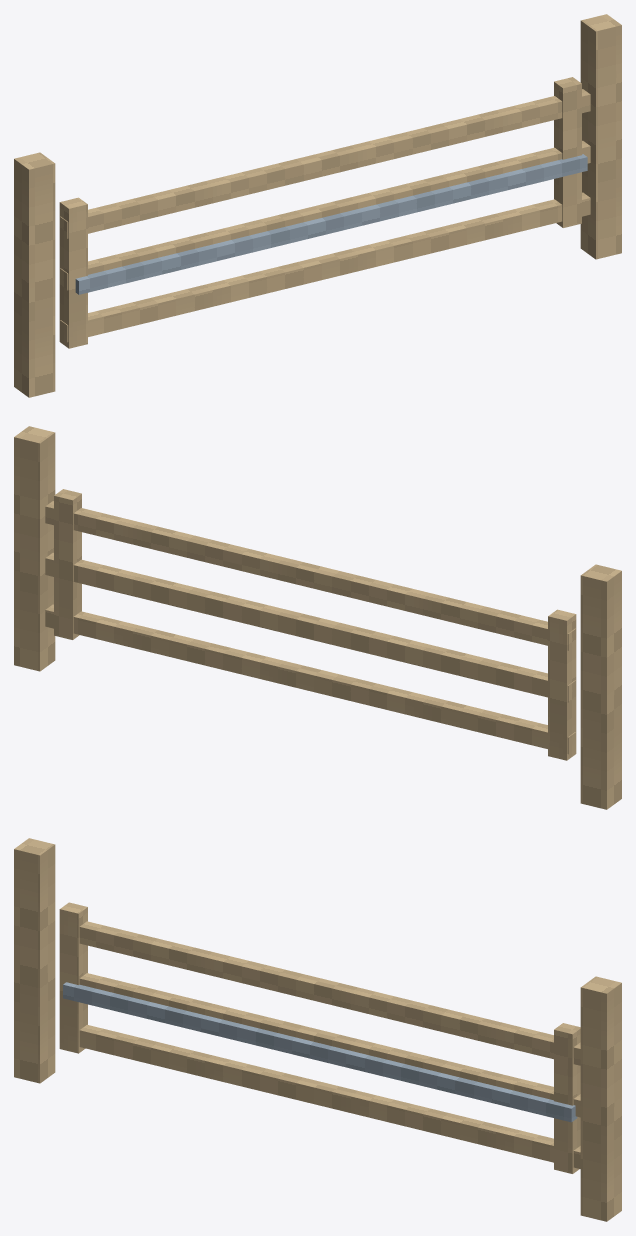
Rendered from pixel-modern-farm-field-gate-78764677__29093.glb.
3 renders of one model, top to bottom at view 1: azimuth 30°, elevation 25°; view 2: azimuth 150°, elevation 25°; view 3: azimuth 330°, elevation 25°, orthographic.
Visible parts, largest first — view 1: gate/oak, field-gate, gate/slate; view 2: gate/oak, field-gate; view 3: gate/oak, field-gate, gate/slate.
Part boxes in pixels (x1,y1,x2,y2): gate/oak: (59,77,590,348); field-gate: (14,14,621,397); gate/slate: (75,154,587,294); gate/oak: (45,489,576,760); field-gate: (14,426,621,809); gate/oak: (59,902,580,1173); field-gate: (14,838,621,1221); gate/slate: (63,982,577,1122).
Bounding box in the file's own units: 4.08 × 1.5 × 0.1849.
Materials: 2 (2 with a texture image).
